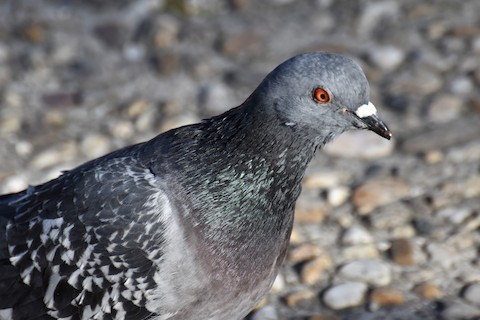pigeon: (16, 48, 394, 306)
